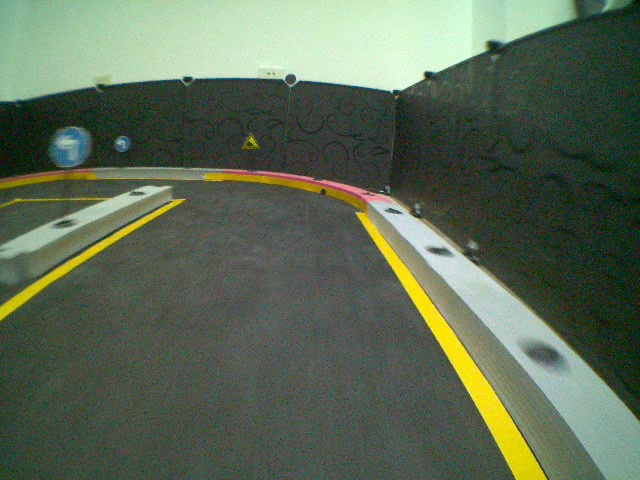fast: (242, 131, 259, 150)
turn: (49, 125, 90, 167), (114, 135, 129, 152)
